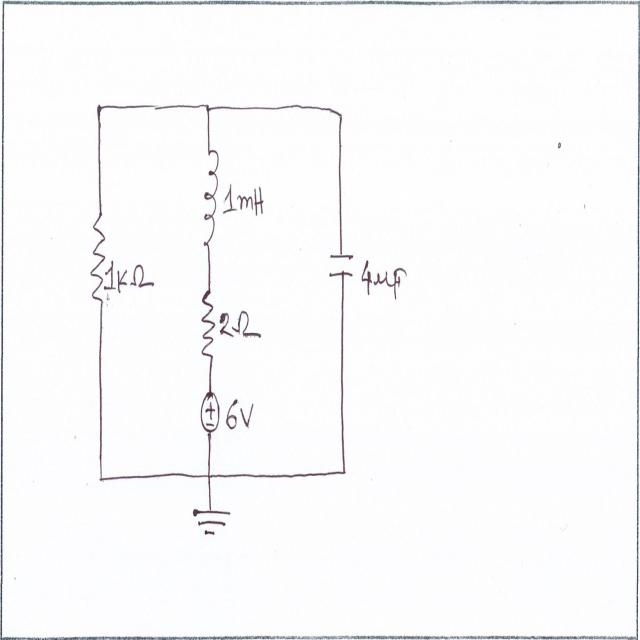capacitor: (326, 244, 357, 294)
ground: (188, 499, 232, 545)
inductor: (200, 140, 221, 256)
resistor: (89, 206, 108, 314), (199, 281, 217, 368)
voltage_source: (198, 379, 221, 446)
